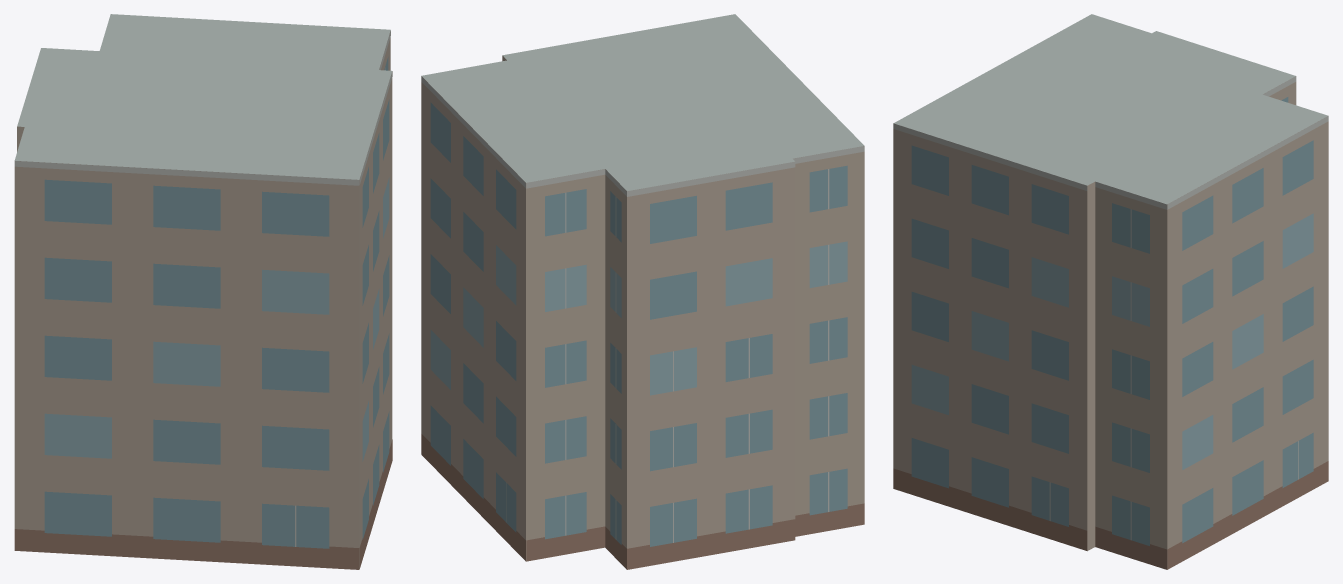
Rendered from survey-upis-32968892.glb.
The picture shows the model from 3 angles, left to right: view 1: azimuth 30°, elevation 25°; view 2: azimuth 150°, elevation 25°; view 3: azimuth 270°, elevation 25°; orthographic projection. The views are drawn at different scales.
Parts seen in each view (by area): view 1: survey-upis-32968892.tmp; view 2: survey-upis-32968892.tmp; view 3: survey-upis-32968892.tmp.
Part boxes in pixels (x1=…): survey-upis-32968892.tmp: x1=14, y1=14, x2=392, y2=569; survey-upis-32968892.tmp: x1=421, y1=14, x2=864, y2=569; survey-upis-32968892.tmp: x1=893, y1=14, x2=1328, y2=569.
Size of the model in its own units: 18 by 16.1 by 17.38.
